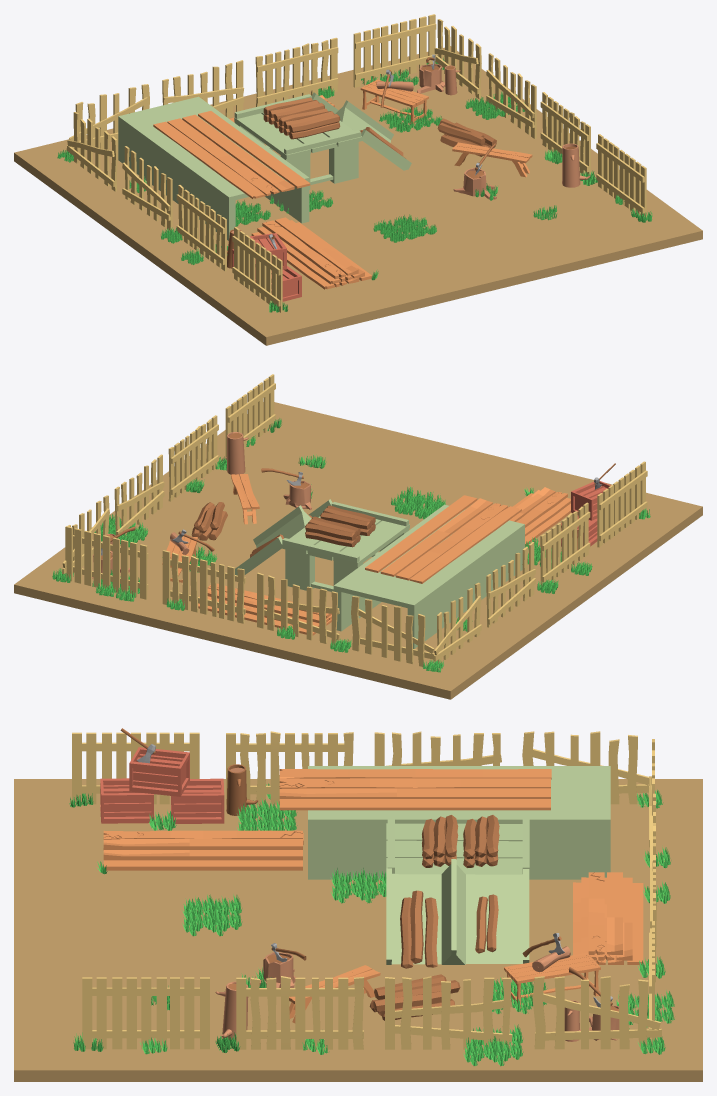
File: bolum_sonu1.fbx
3 views of the same model, one above another, from view 1: azimuth 30°, elevation 25°; view 2: azimuth 150°, elevation 25°; view 3: azimuth 270°, elevation 25° (orthographic). The views are drawn at different scales.
Parts seen in each view (by area): view 1: Cube.005, cit_3_.002, cit_3_, cit_3_.001, Cube.004, Cone.126, pasted__pCube40, Cube.008, pasted__pasted__Branch22.010, Cube.003, Cube.002, Cube (+8 smaller); view 2: Cube.005, cit_3_.002, cit_3_, Cube.004, cit_3_.001, pasted__pCube40, Cone.126, pasted__pasted__Branch22.010, Cube.008, Cube.003, Cube.002, Cube (+6 smaller); view 3: Cube.005, cit_3_.001, Cube.004, pasted__pCube40, cit_3_, Cone.126, pasted__pasted__Branch22.010, Cube.008, Cube.006, Cube.003, Cube.001, Cube.002 (+10 smaller).
Boxes of the visible parts, left/top/right/bottom form: Cube.005: left=14, top=46, right=702, bottom=345; cit_3_.002: left=69, top=14, right=436, bottom=153; cit_3_: left=66, top=112, right=282, bottom=312; cit_3_.001: left=434, top=19, right=646, bottom=217; Cube.004: left=118, top=96, right=309, bottom=240; Cone.126: left=57, top=55, right=652, bottom=312; pasted__pCube40: left=234, top=92, right=411, bottom=189; Cube.008: left=251, top=217, right=372, bottom=289; pasted__pasted__Branch22.010: left=263, top=97, right=496, bottom=158; Cube.003: left=198, top=111, right=310, bottom=188; Cube.002: left=182, top=114, right=294, bottom=191; Cube: left=153, top=121, right=265, bottom=198; Cube.005: left=14, top=402, right=702, bottom=699; cit_3_.002: left=65, top=526, right=434, bottom=666; cit_3_: left=433, top=461, right=647, bottom=663; Cube.004: left=333, top=504, right=524, bottom=648; cit_3_.001: left=62, top=374, right=275, bottom=574; pasted__pCube40: left=235, top=499, right=409, bottom=591; Cone.126: left=52, top=418, right=650, bottom=672; pasted__pasted__Branch22.010: left=191, top=502, right=375, bottom=557; Cube.008: left=509, top=487, right=570, bottom=545; Cube.003: left=365, top=495, right=477, bottom=572; Cube.002: left=380, top=498, right=492, bottom=576; Cube: left=409, top=506, right=521, bottom=583; Cube.005: left=14, top=779, right=702, bottom=1081; cit_3_.001: left=82, top=976, right=661, bottom=1049; Cube.004: left=308, top=766, right=610, bottom=879; pasted__pCube40: left=386, top=817, right=529, bottom=964; cit_3_: left=72, top=731, right=648, bottom=804; Cone.126: left=69, top=783, right=674, bottom=1066; pasted__pasted__Branch22.010: left=369, top=815, right=499, bottom=1020; Cube.008: left=103, top=830, right=303, bottom=870; Cube.006: left=573, top=872, right=643, bottom=964; Cube.003: left=279, top=799, right=550, bottom=810; Cube.001: left=279, top=778, right=550, bottom=788; Cube.002: left=279, top=788, right=550, bottom=798.
Size of the model in its own units: 53088 by 8059 by 53088.
